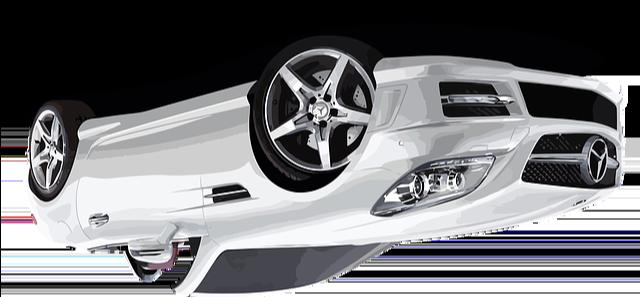Non_Gorille: (7, 43, 616, 294)
